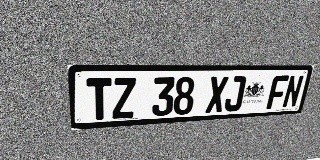3: (152, 77, 175, 116)
8: (173, 77, 196, 115)
F: (266, 75, 289, 109)
J: (223, 76, 247, 112)
N: (281, 75, 304, 108)
T: (86, 78, 112, 121)
X: (205, 76, 229, 113)
Z: (112, 78, 136, 119)
